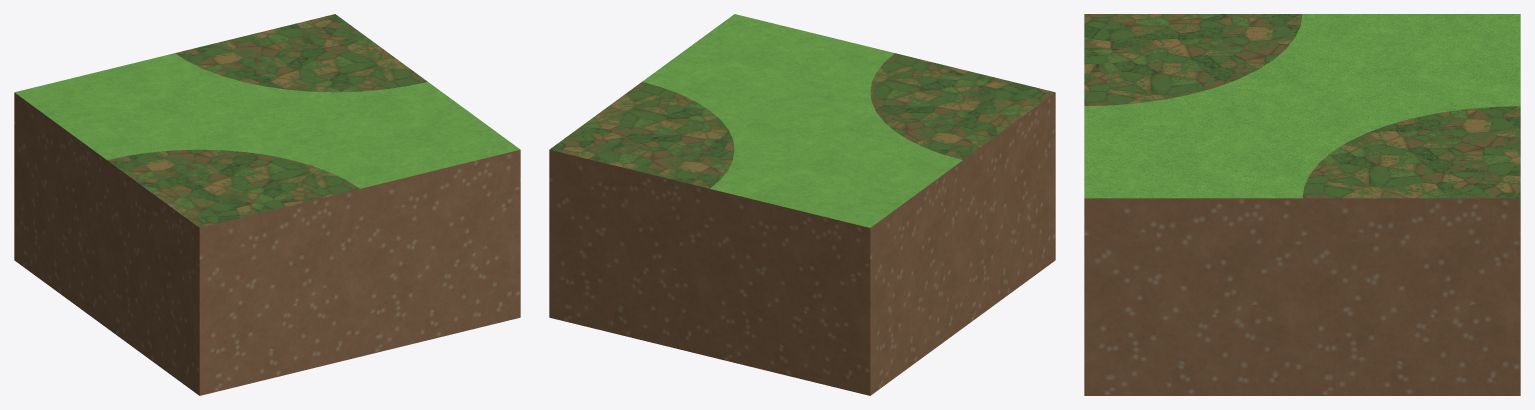
Rendered from Forest_Diagonal_H.fbx.
3 renders of one model, left to right at view 1: azimuth 30°, elevation 25°; view 2: azimuth 150°, elevation 25°; view 3: azimuth 270°, elevation 25°, orthographic. The views are drawn at different scales.
Parts seen in each view (by area): view 1: Forest_Diagonal_H; view 2: Forest_Diagonal_H; view 3: Forest_Diagonal_H.
Boxes of the visible parts, bbox=[...] form: Forest_Diagonal_H: bbox=[14, 14, 520, 395]; Forest_Diagonal_H: bbox=[549, 14, 1055, 395]; Forest_Diagonal_H: bbox=[1084, 14, 1520, 395].
Size of the model in its own units: 3 by 1.5 by 3.
Materials: 3 (3 with a texture image).
